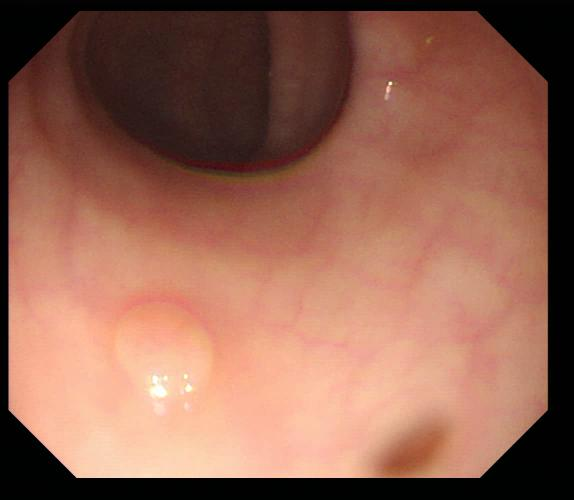polyp: (111, 299, 221, 414)
